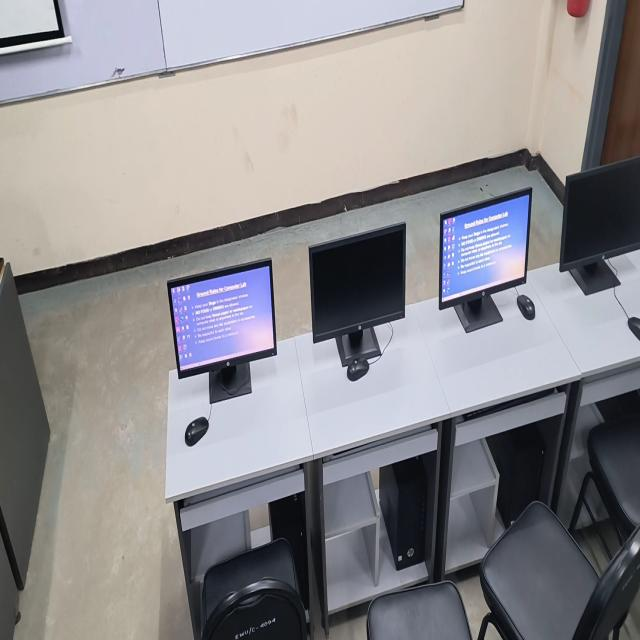Chair: (491, 509, 640, 640), (202, 544, 300, 640), (365, 588, 469, 640), (587, 416, 640, 518)
Cpu: (380, 468, 428, 567), (494, 438, 548, 513), (268, 507, 310, 541)
Monitor: (436, 192, 526, 332), (172, 260, 275, 382), (307, 220, 404, 347), (562, 158, 640, 293)
Mouse: (184, 415, 209, 450), (516, 291, 537, 324), (346, 354, 369, 384), (627, 308, 640, 342)
